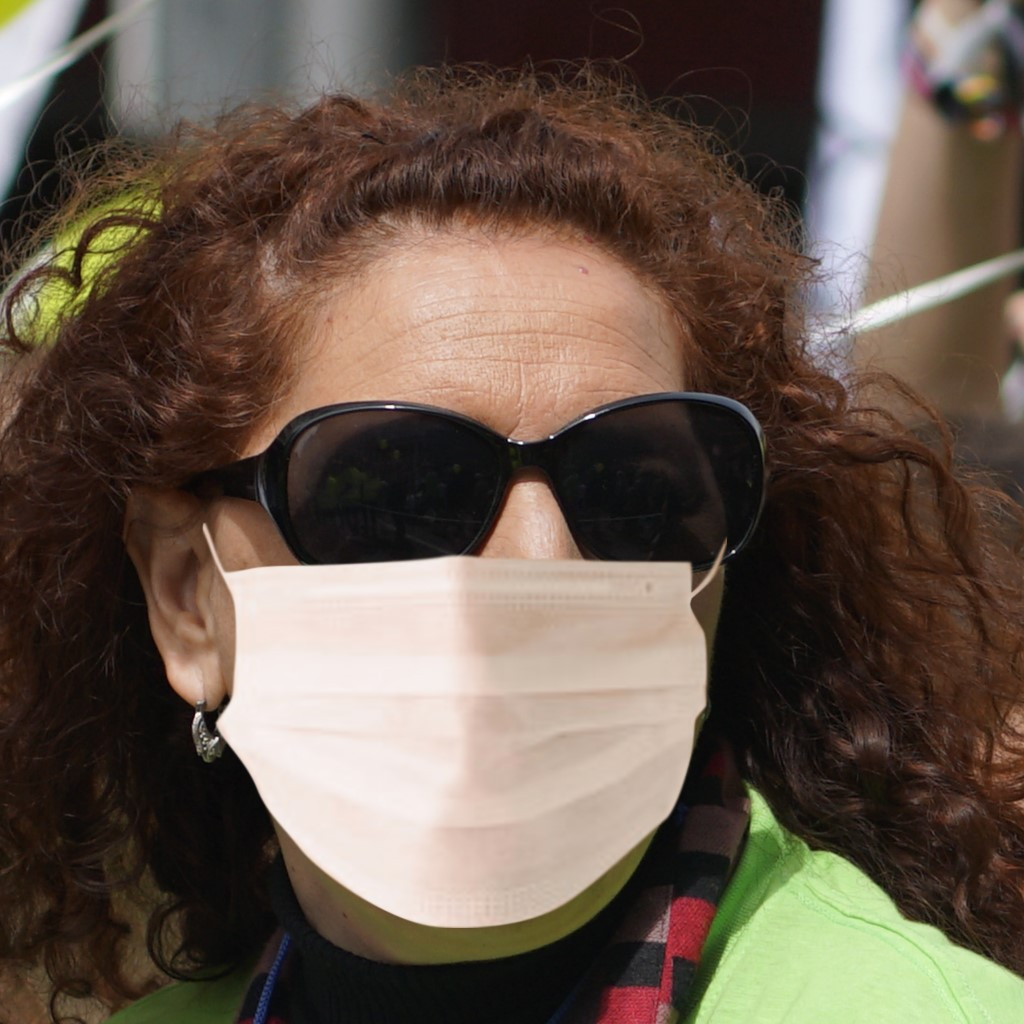con_mascara: (109, 84, 750, 962)
